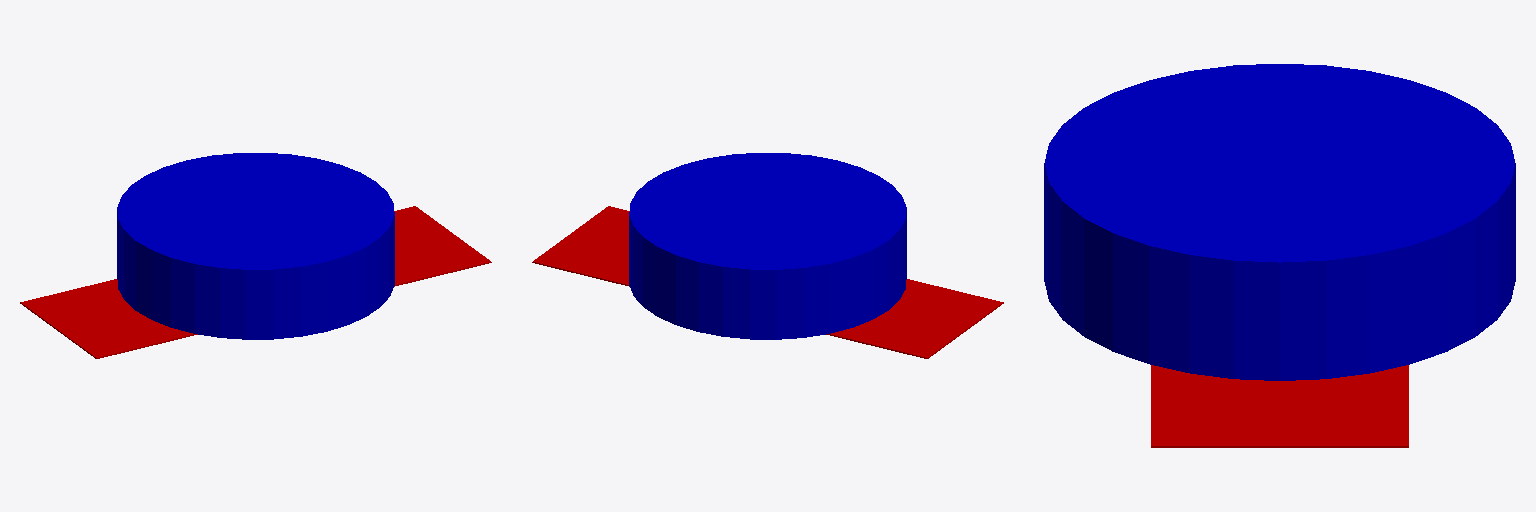
robot.urdf — rover:
<robot name="rover">

    <material name="blue">
        <color rgba="0 0 0.8 1"/>
    </material>
    <material name="red">
        <color rgba="0.8 0 0 1"/>
    </material>
    <material name="green">
        <color rgba="0 0.8 0 1"/>
    </material>
    <material name="purple">
        <color rgba="0.8 0 0.8 1"/>
    </material>

    <gazebo>
        <plugin name="gazebo_ros_control" filename="libgazebo_ros_control.so">
        </plugin>
    </gazebo>

	<!-- chassie -->
    <link name="base_link">
 	    <inertial>
            <origin xyz="0 0 0" rpy="0 0 0"/>
            <mass value="0.2" />
            <inertia ixx="0.0005726" ixy="0.0" ixz="0.0" iyy="0.0005726" iyz="0.0" izz="0.0002704"/>
        </inertial>
        <collision>
            <origin rpy="0.0 0 0" xyz="0 0 0"/>
            <geometry>
                <box size="1.5 0.5 .005"/>
            </geometry>
        </collision>
        <visual>
            <origin rpy="0.0 0 0" xyz="0 0 0"/>
            <geometry>
                <box size="1.5 0.5 .005"/>
            </geometry>
            <material name="red"/>
        </visual>
	</link>
    <gazebo reference="base_link">
        <kp>1000000.0</kp>
        <kd>1000000.0</kd>
        <mu1>10.0</mu1>
        <mu2>10.0</mu2>
        <material>Gazebo/Red</material>
    </gazebo>

    <!-- Wheel_FR -->
    <link name="Wheel_FR">
 	    <inertial>
            <origin xyz="0 0 0.0362" rpy="0 0 0"/>
            <mass value="0.2" />
            <inertia ixx="0.000220439071667" ixy="0.0" ixz="0.0" iyy="0.000220439071667" iyz="0.0" izz="0.00026615281"/>
        </inertial>
        <collision>
            <origin xyz="0 0 0.0362" rpy="0 0 0"/>
            <geometry>
                <cylinder radius="0.4572" length="0.254"/>
            </geometry>
        </collision>
        <visual>
            <origin xyz="0 0 0.0362" rpy="0 0 0"/>
            <geometry>
                <cylinder radius="0.4572" length="0.254"/>
            </geometry>
            <material name="blue"/>
        </visual>
	</link>
    <!-- This is for color and physical properties in Gazebo, color won't work with the material tag in gazebo
    only for URDF coloring -->
    <gazebo reference="Wheel_FR">
        <mu1 value="200.0"/>
        <mu2 value="100.0"/>
        <kp value="10000000.0" />
        <kd value="1.0" />
        <material>Gazebo/Grey</material>
    </gazebo>
    <joint name="Chassie_Wheel_FR_Joint" type="continuous">
    	<parent link="base_link"/>
    	<child link="Wheel_FR"/>
        <origin xyz="0 0 0.096" rpy="0 0 0"/>
        <limit lower="0" upper="0" effort="10.0" velocity="8.94"/>
        <axis xyz="1 0 0"/>
	</joint>
    <transmission name="fr_trans">
        <type>transmission_interface/SimpleTransmission</type>
        <actuator name="Chassie_Wheel_FR_motor">
            <mechanicalReduction>1</mechanicalReduction>
        </actuator>
        <joint name="Chassie_Wheel_FR_Joint">
            <hardwareInterface>hardware_interface/EffortJointInterface</hardwareInterface>
        </joint>
    </transmission>

    <!-- Wheel_FL -->
    <link name="Wheel_FL">
 	    <inertial>
            <origin xyz="0 0 0.0362" rpy="0 0 0"/>
            <mass value="0.2" />
            <inertia ixx="0.000220439071667" ixy="0.0" ixz="0.0" iyy="0.000220439071667" iyz="0.0" izz="0.00026615281"/>
        </inertial>
        <collision>
            <origin xyz="0 0 0.0362" rpy="0 0 0"/>
            <geometry>
                <cylinder radius="0.4572" length="0.254"/>
            </geometry>
        </collision>
        <visual>
            <origin xyz="0 0 0.0362" rpy="0 0 0"/>
            <geometry>
                <cylinder radius="0.4572" length="0.254"/>
            </geometry>
            <material name="blue"/>
        </visual>
	</link>
    <!-- This is for color and physical properties in Gazebo, color won't work with the material tag in gazebo
    only for URDF coloring -->
    <gazebo reference="Wheel_FL">
        <mu1 value="200.0"/>
        <mu2 value="100.0"/>
        <kp value="10000000.0" />
        <kd value="1.0" />
        <material>Gazebo/Grey</material>
    </gazebo>
    <joint name="Chassie_Wheel_FL_Joint" type="continuous">
    	<parent link="base_link"/>
    	<child link="Wheel_FL"/>
        <origin xyz="0 0 0.096" rpy="0 0 0"/>
        <limit lower="0" upper="0" effort="10.0" velocity="8.94"/>
        <axis xyz="1 0 0"/>
	</joint>
    <transmission name="fl_trans">
        <type>transmission_interface/SimpleTransmission</type>
        <actuator name="Chassie_Wheel_FL_motor">
            <mechanicalReduction>1</mechanicalReduction>
        </actuator>
        <joint name="Chassie_Wheel_FL_Joint">
            <hardwareInterface>hardware_interface/EffortJointInterface</hardwareInterface>
        </joint>
    </transmission>

    <!-- Wheel_RR-->
    <link name="Wheel_RR">
 	    <inertial>
            <origin xyz="0 0 0.0362" rpy="0 0 0"/>
            <mass value="0.2" />
            <inertia ixx="0.000220439071667" ixy="0.0" ixz="0.0" iyy="0.000220439071667" iyz="0.0" izz="0.00026615281"/>
        </inertial>
        <collision>
            <origin xyz="0 0 0.0362" rpy="0 0 0"/>
            <geometry>
                <cylinder radius="0.4572" length="0.254"/>
            </geometry>
        </collision>
        <visual>
            <origin xyz="0 0 0.0362" rpy="0 0 0"/>
            <geometry>
                <cylinder radius="0.4572" length="0.254"/>
            </geometry>
            <material name="blue"/>
        </visual>
	</link>
    <!-- This is for color and physical properties in Gazebo, color won't work with the material tag in gazebo
    only for URDF coloring -->
    <gazebo reference="Wheel_RR">
        <mu1 value="200.0"/>
        <mu2 value="100.0"/>
        <kp value="10000000.0" />
        <kd value="1.0" />
        <material>Gazebo/Grey</material>
    </gazebo>
    <joint name="Chassie_Wheel_RR_Joint" type="continuous">
    	<parent link="base_link"/>
    	<child link="Wheel_RR"/>
        <origin xyz="0 0 0.096" rpy="0 0 0"/>
        <limit lower="0" upper="0" effort="10.0" velocity="8.94"/>
        <axis xyz="1 0 0"/>
	</joint>
    <transmission name="rr_trans">
        <type>transmission_interface/SimpleTransmission</type>
        <actuator name="Chassie_Wheel_RR_motor">
            <mechanicalReduction>1</mechanicalReduction>
        </actuator>
        <joint name="Chassie_Wheel_RR_Joint">
            <hardwareInterface>hardware_interface/EffortJointInterface</hardwareInterface>
        </joint>
    </transmission>

    <!-- Wheel_RL-->
    <link name="Wheel_RL">
 	    <inertial>
            <origin xyz="0 0 0.0362" rpy="0 0 0"/>
            <mass value="0.2" />
            <inertia ixx="0.000220439071667" ixy="0.0" ixz="0.0" iyy="0.000220439071667" iyz="0.0" izz="0.00026615281"/>
        </inertial>
        <collision>
            <origin xyz="0 0 0.0362" rpy="0 0 0"/>
            <geometry>
                <cylinder radius="0.4572" length="0.254"/>
            </geometry>
        </collision>
        <visual>
            <origin xyz="0 0 0.0362" rpy="0 0 0"/>
            <geometry>
                <cylinder radius="0.4572" length="0.254"/>
            </geometry>
            <material name="blue"/>
        </visual>
	</link>
    <!-- This is for color and physical properties in Gazebo, color won't work with the material tag in gazebo
    only for URDF coloring -->
    <gazebo reference="Wheel_RL">
        <mu1 value="200.0"/>
        <mu2 value="100.0"/>
        <kp value="10000000.0" />
        <kd value="1.0" />
        <material>Gazebo/Grey</material>
    </gazebo>
    <joint name="Chassie_Wheel_RL_Joint" type="continuous">
    	<parent link="base_link"/>
    	<child link="Wheel_RL"/>
        <origin xyz="0 0 0.096" rpy="0 0 0"/>
        <limit lower="0" upper="0" effort="10.0" velocity="8.94"/>
        <axis xyz="1 0 0"/>
	</joint>    
    <transmission name="rl_trans">
        <type>transmission_interface/SimpleTransmission</type>
        <actuator name="Chassie_Wheel_RL_motor">
            <mechanicalReduction>1</mechanicalReduction>
        </actuator>
        <joint name="Chassie_Wheel_RL_Joint">
            <hardwareInterface>hardware_interface/EffortJointInterface</hardwareInterface>
        </joint>
    </transmission>

</robot>

--- What the picture shows (computed from the rendered views, not written in the file) ---
3 views of the same robot in one strip: view 1: azimuth 30°, elevation 25°; view 2: azimuth 150°, elevation 25°; view 3: azimuth 270°, elevation 25° (orthographic).
Robot: rover — 5 links, 4 joints (4 continuous); root link base_link; default pose: every joint at zero.
Links seen in each view (by area): view 1: Wheel_FR, base_link; view 2: Wheel_FR, base_link; view 3: Wheel_FR, base_link.
Boxes of the visible links, x1,y1,x2,y2 form: Wheel_FR: (117,153,394,339); base_link: (20,206,491,358); Wheel_FR: (629,153,906,339); base_link: (532,206,1003,358); Wheel_FR: (1044,64,1515,380); base_link: (1151,365,1408,447).
Bounding box of the posed robot: 1.5 × 0.9144 × 0.2617 m (x, y, z).
Geometry: primitives only (box / cylinder / sphere), no mesh files.